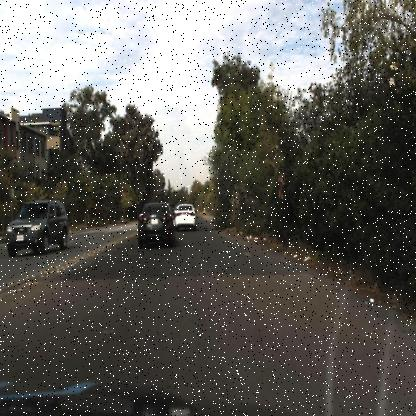car: (5, 199, 70, 260), (134, 198, 176, 257), (171, 194, 201, 236), (164, 217, 176, 241)
